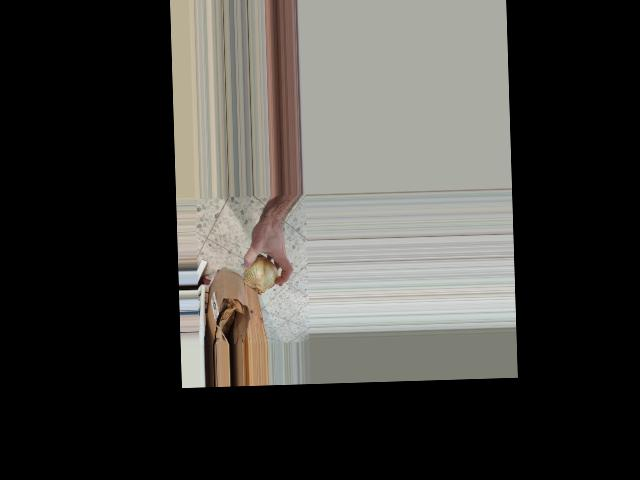onion: (241, 250, 280, 296)
